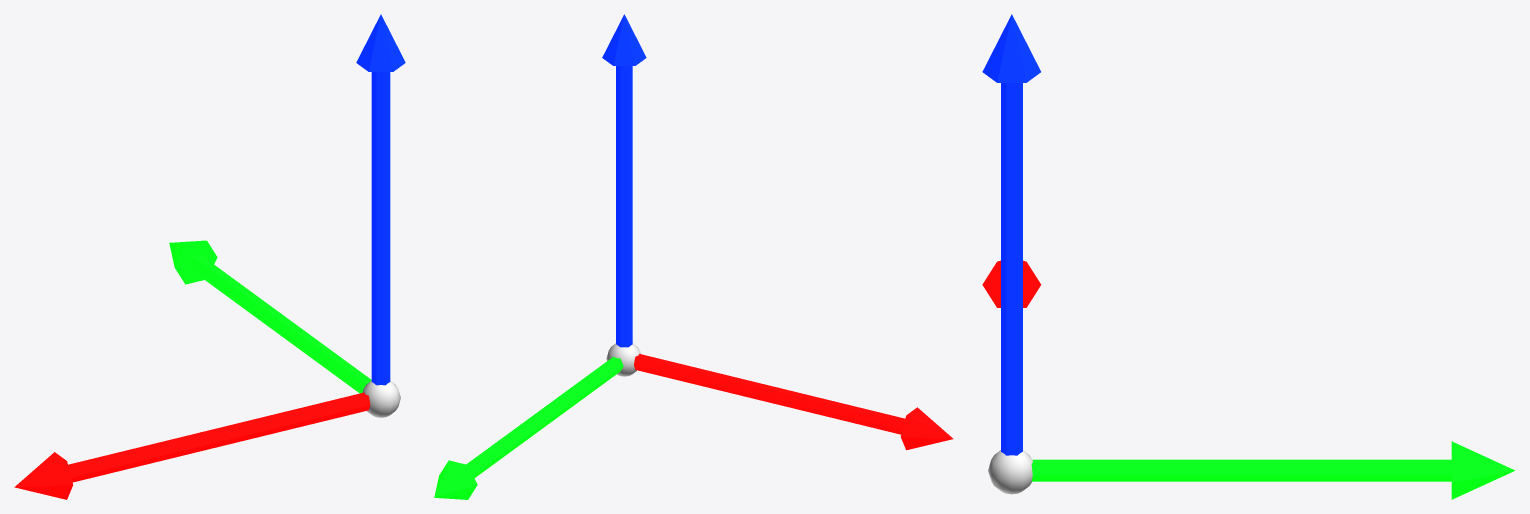
The model's file is Axis.FBX.
3 renders of one model, left to right at view 1: azimuth 30°, elevation 25°; view 2: azimuth 150°, elevation 25°; view 3: azimuth 270°, elevation 25°, orthographic. The views are drawn at different scales.
Visible parts, largest first — view 1: Axis; view 2: Axis; view 3: Axis.
Boxes of the visible parts, x1=… form: Axis: x1=14, y1=14, x2=405, y2=499; Axis: x1=434, y1=14, x2=953, y2=499; Axis: x1=982, y1=14, x2=1514, y2=499.
Size of the model in its own units: 10.06 by 9.98 by 10.06.
